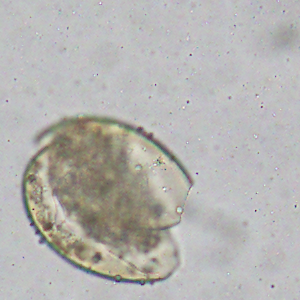Fasciola_hepatica_egg: (21, 114, 195, 285)
